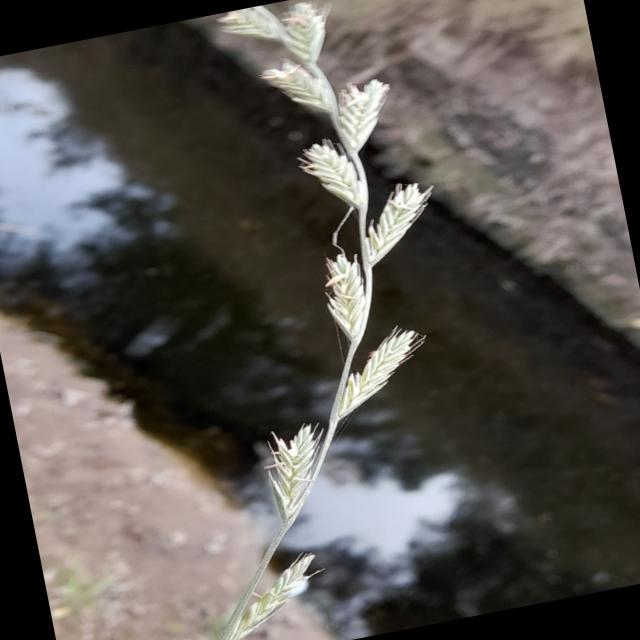Lolium: (81, 0, 520, 640)
